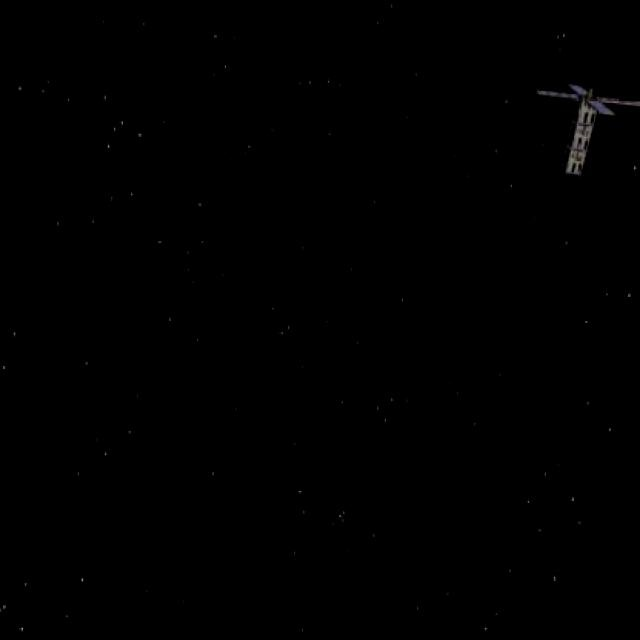satellite: (523, 75, 640, 177)
